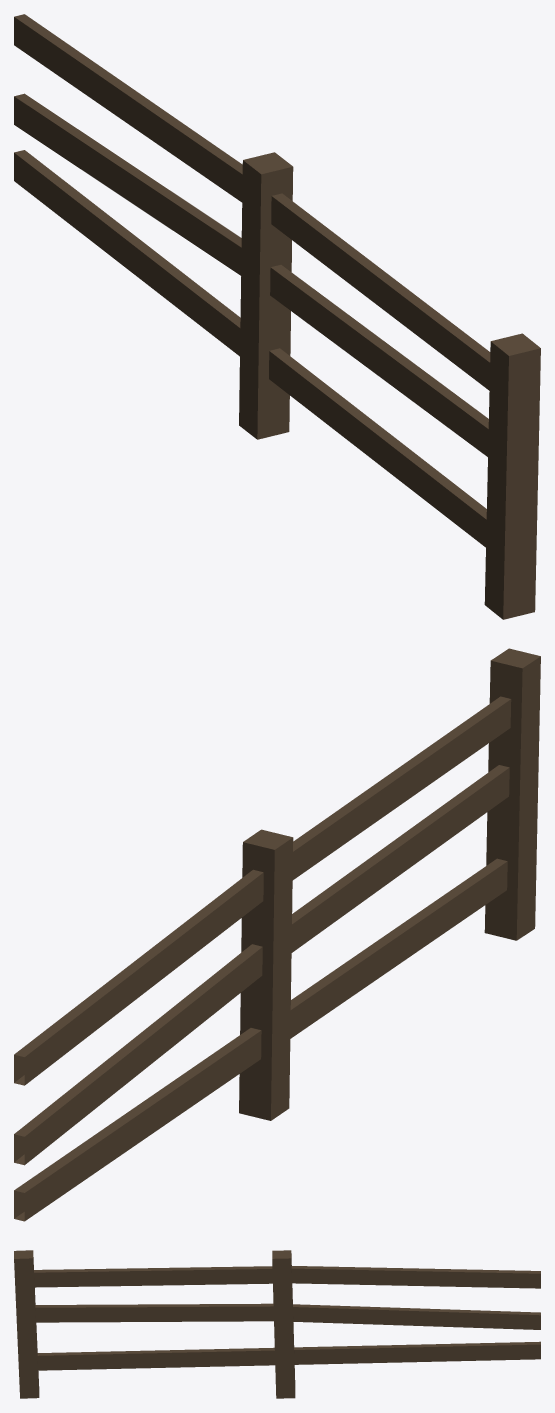
File: SM_fence_102c.gltf
3 renders of one model, top to bottom at view 1: azimuth 30°, elevation 25°; view 2: azimuth 150°, elevation 25°; view 3: azimuth 270°, elevation 25°, orthographic. The views are drawn at different scales.
Visible parts, largest first — view 1: SM_fence_102c; view 2: SM_fence_102c; view 3: SM_fence_102c.
Part boxes in pixels (left/top/right/bottom): SM_fence_102c: left=14, top=14, right=540, bottom=619; SM_fence_102c: left=14, top=648, right=540, bottom=1221; SM_fence_102c: left=14, top=1250, right=540, bottom=1398.
Size of the model in its own units: 0.1495 by 1.2 by 4.1.
Materials: 1 (1 with a texture image).
